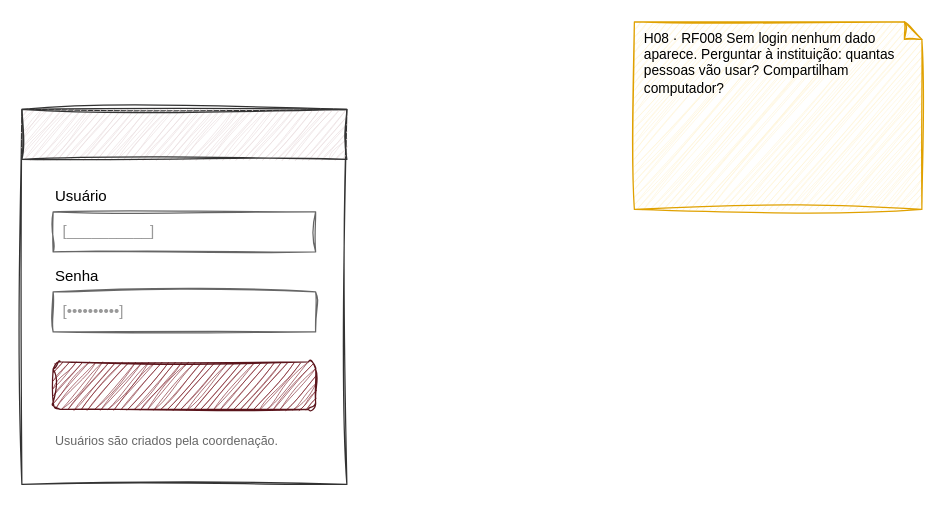
The diagram is 944 pixels wide and 506 high, and some of its shapes have lost their labels. The shapes that lost their labels are listed below. From the top down, each one's centre as x and y in pixels, then its label:
point 184,133: SISTEMA DE DOAÇÕES
point 184,385: Entrar
